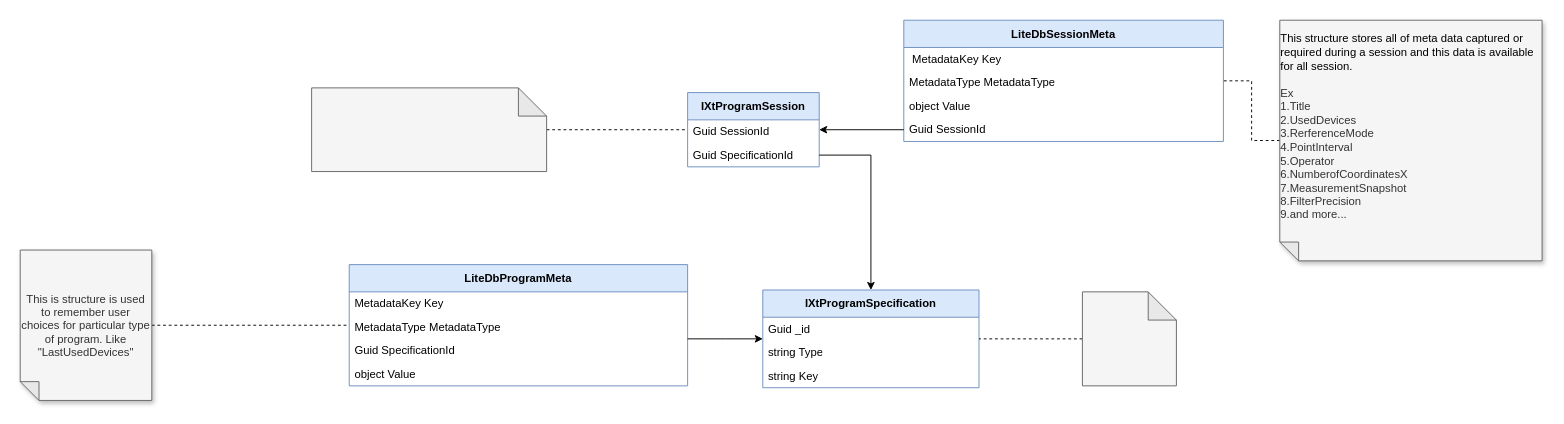
This 1564x424 diagram has some shape labels left out. Here are the shapes that lost their labels. From the top down, the centre of each, then its label:
At (429,129): "This should number of measurements + (Session which are not finalized)".
At (1128,338): "This should be number of types of programs".
